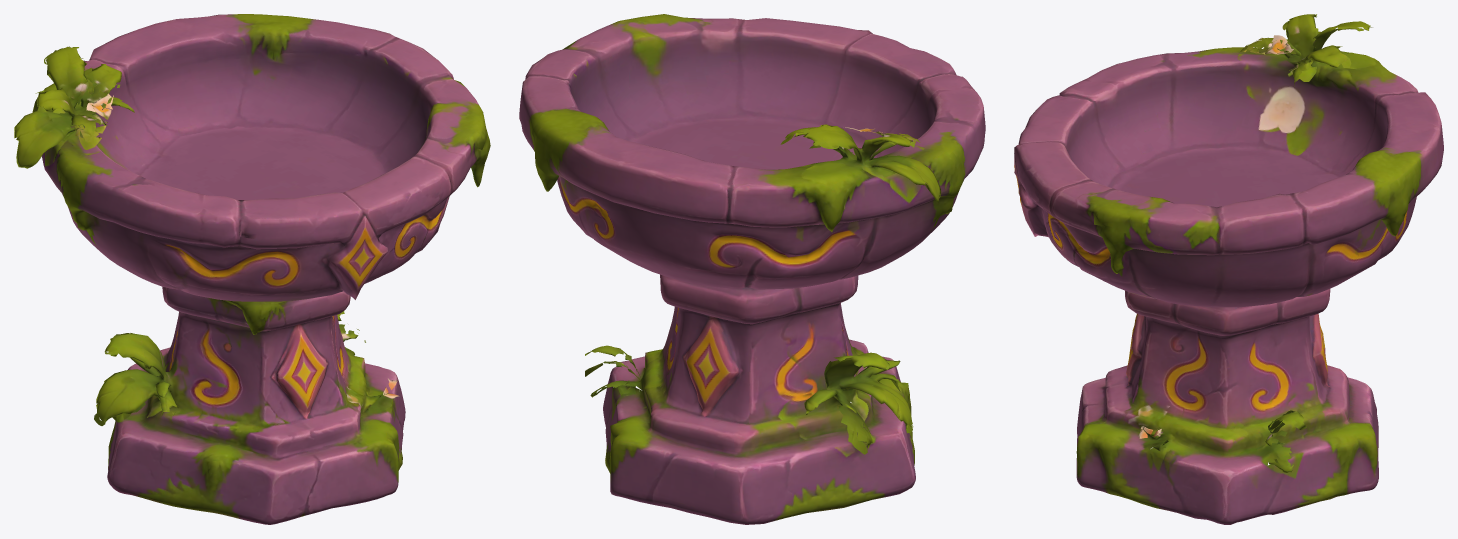
File: mangal.glb
3 views of the same model, side by side, from view 1: azimuth 30°, elevation 25°; view 2: azimuth 150°, elevation 25°; view 3: azimuth 270°, elevation 25° (orthographic). The views are drawn at different scales.
Visible parts, largest first — view 1: tripo_node_1cf91544; view 2: tripo_node_1cf91544; view 3: tripo_node_1cf91544.
Part boxes in pixels (x1,y1,x2,y2): tripo_node_1cf91544: (14, 14, 490, 524); tripo_node_1cf91544: (519, 14, 985, 524); tripo_node_1cf91544: (1014, 14, 1443, 524).
Bounding box in the file's own units: 0.9922 × 0.9103 × 0.9421.
Materials: 1 (1 with a texture image).
